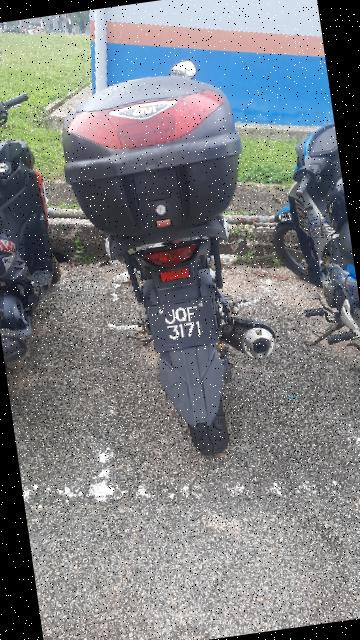License_Plate: (137, 283, 230, 364)
motorcycle: (40, 48, 302, 489)
